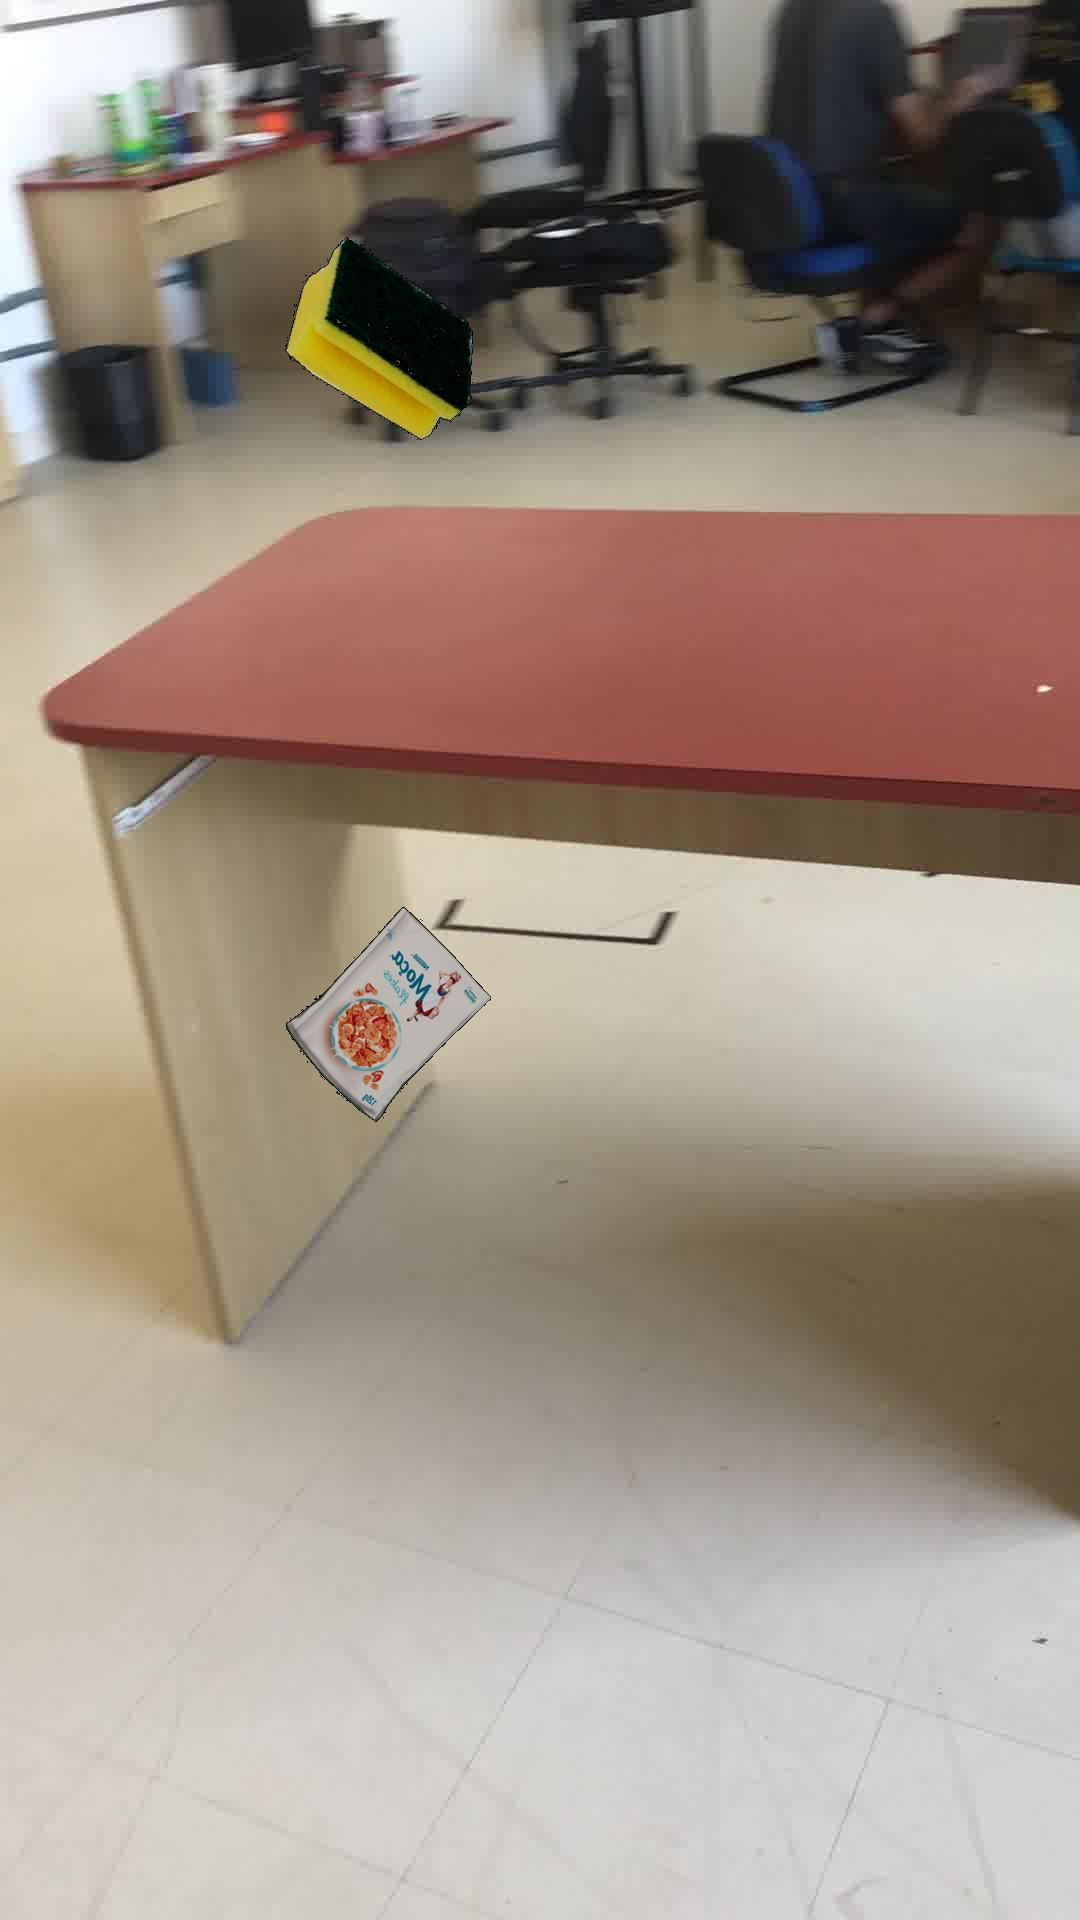corn flakes: (285, 906, 489, 1121)
sponge: (284, 236, 472, 439)
